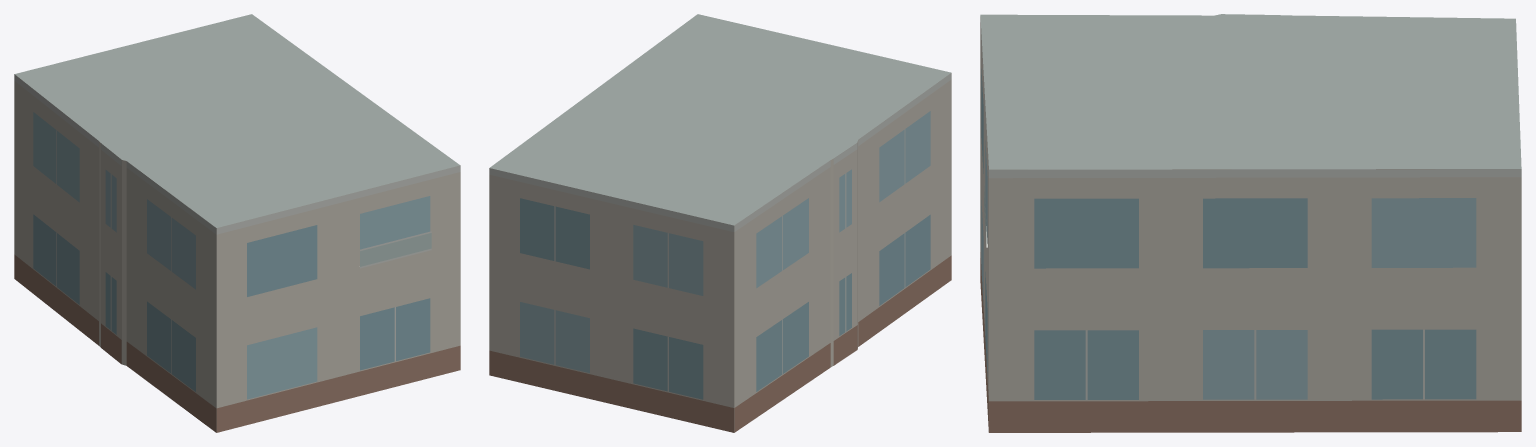
File: survey-upis-32632210.glb
3 renders of one model, left to right at view 1: azimuth 30°, elevation 25°; view 2: azimuth 150°, elevation 25°; view 3: azimuth 270°, elevation 25°, orthographic. The views are drawn at different scales.
Visible parts, largest first — view 1: survey-upis-32632210.tmp; view 2: survey-upis-32632210.tmp; view 3: survey-upis-32632210.tmp.
Boxes of the visible parts, x1=… form: survey-upis-32632210.tmp: x1=14, y1=14, x2=460, y2=432; survey-upis-32632210.tmp: x1=489, y1=14, x2=951, y2=432; survey-upis-32632210.tmp: x1=980, y1=14, x2=1521, y2=432.
Bounding box in the file's own units: 9.66 × 7.6 × 14.18.
